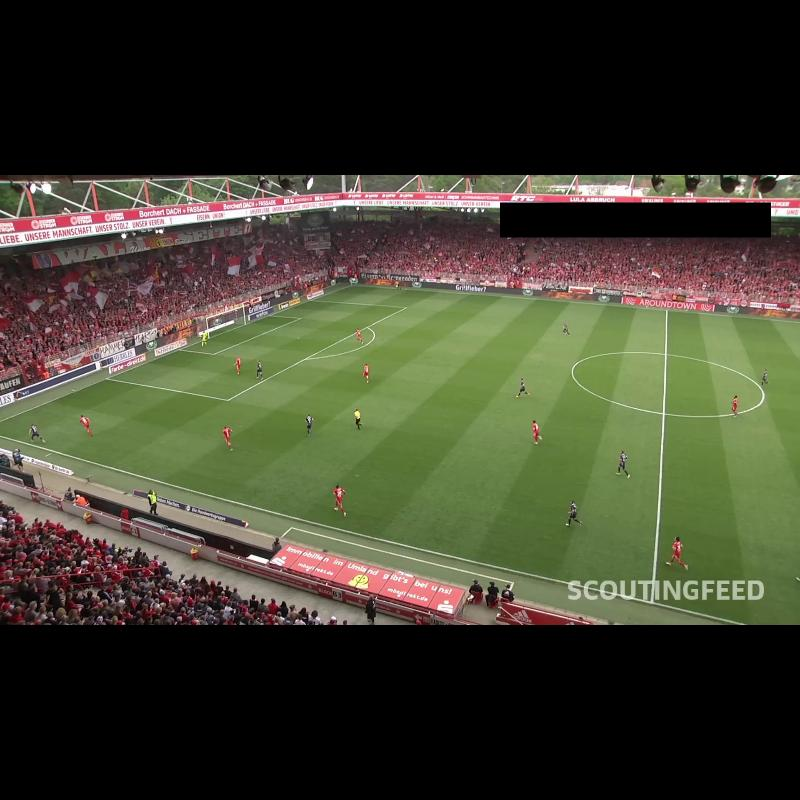cross_recipient_zone: (106, 300, 406, 400)
crossing_player_zone: (0, 378, 330, 498), (311, 286, 502, 314)
pitch: (0, 286, 800, 625)
